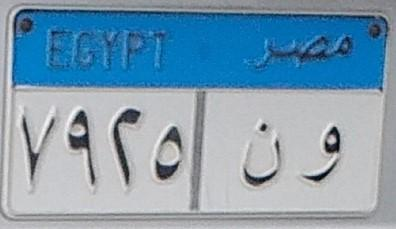2: (106, 103, 147, 196)
5: (148, 119, 187, 188)
7: (15, 99, 58, 196)
9: (62, 105, 101, 198)
noon: (233, 113, 285, 193)
waw: (299, 117, 346, 197)
